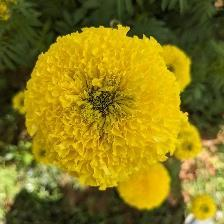marigold: (23, 24, 184, 182)
